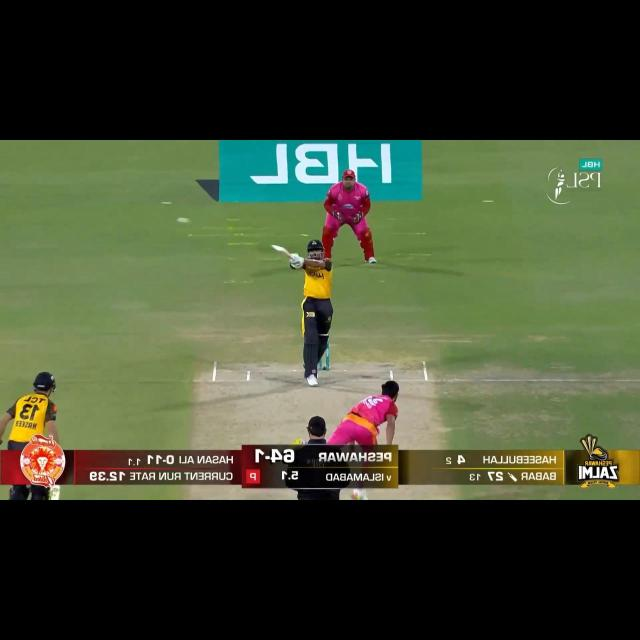bat: (270, 242, 296, 261)
toe: (270, 241, 284, 255)
